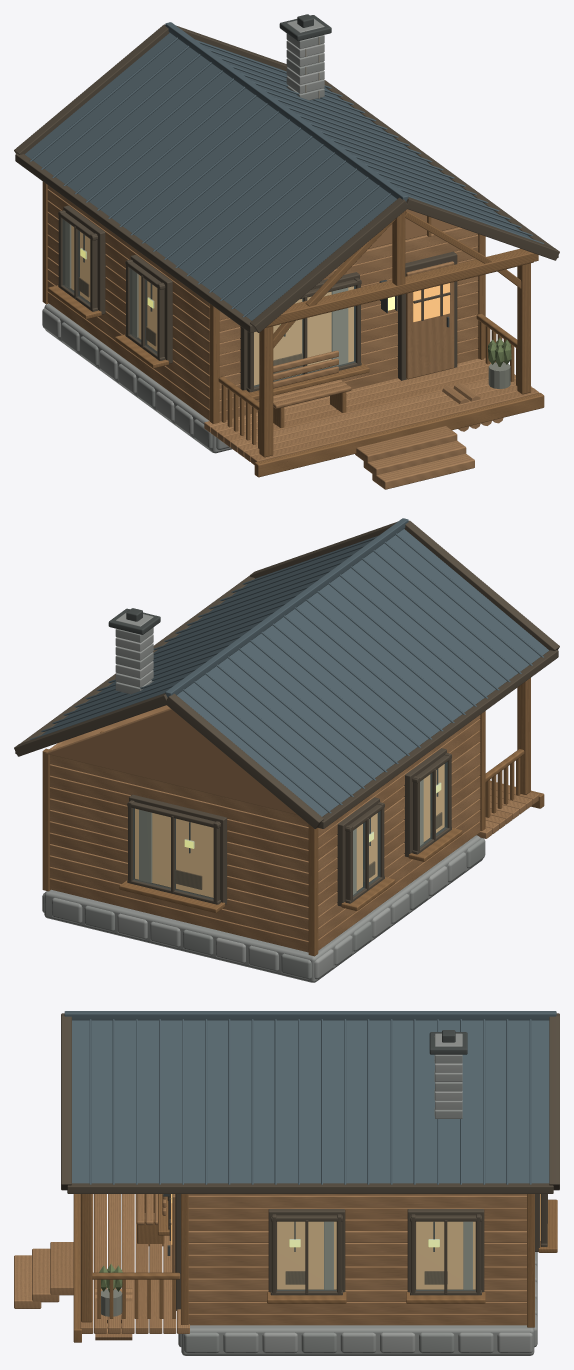
File: Lake_Cabin_Gable.glb
3 renders of one model, top to bottom at view 1: azimuth 30°, elevation 25°; view 2: azimuth 150°, elevation 25°; view 3: azimuth 270°, elevation 25°, orthographic. The views are drawn at different scales.
Parts seen in each view (by area): view 1: Cabin_Gable; view 2: Cabin_Gable; view 3: Cabin_Gable.
Boxes of the visible parts, box(x1,y1,x2,y2) form: Cabin_Gable: box(14, 14, 559, 489); Cabin_Gable: box(14, 518, 559, 982); Cabin_Gable: box(14, 1011, 559, 1355).
Bounding box in the file's own units: 6.52 × 5.82 × 9.62.
18 materials, 5 textured.
